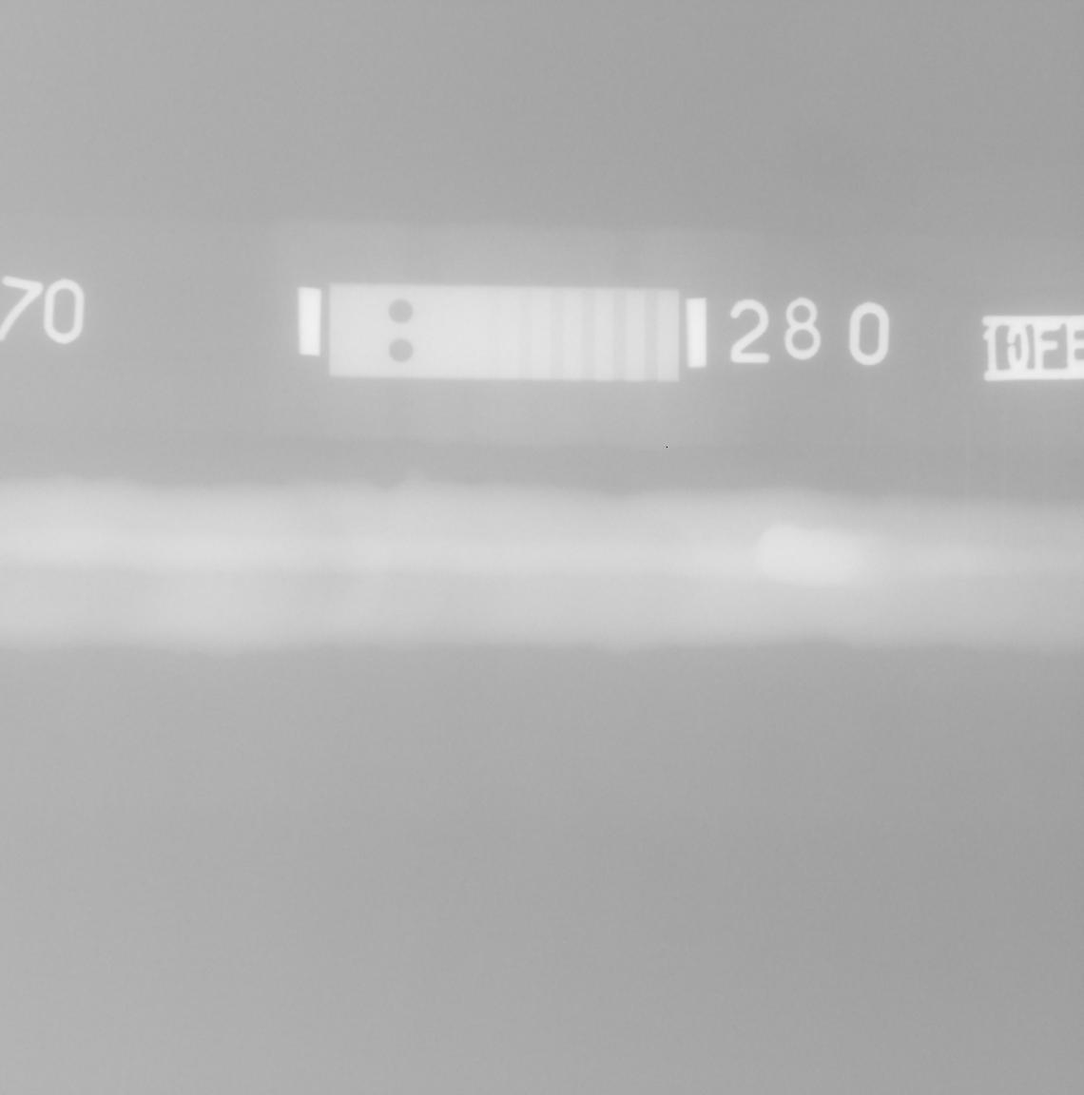Pore/Porosity: (282, 579, 286, 582), (1025, 546, 1028, 550)
Reference Standard 2: (329, 283, 679, 382)
